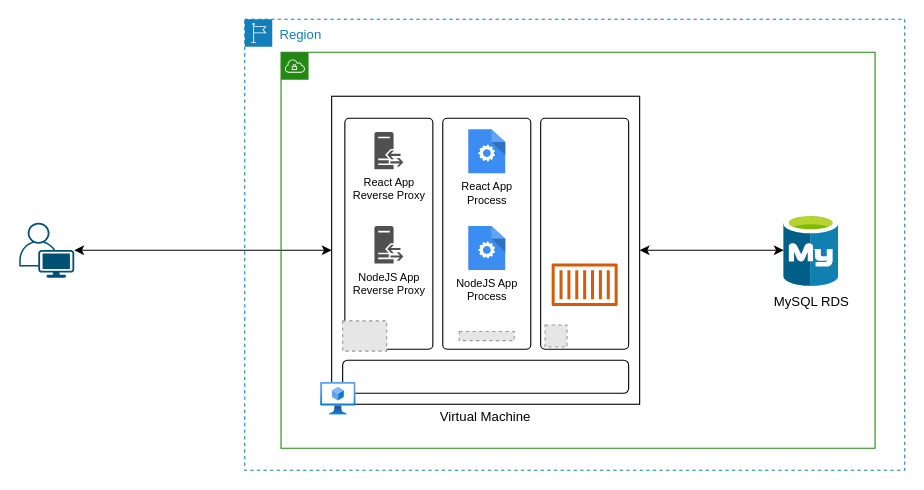
Image size: 924x490. Some labels were removed from this diagram. Grey dashed boxes stand in for pictures. Here are the shapes that lost their labels. From the top down, the box of each, then its label:
(19, 222, 74, 277): User
(280, 51, 875, 448): VPC
(551, 263, 617, 306): Redis
(342, 359, 629, 393): Ubuntu OS
